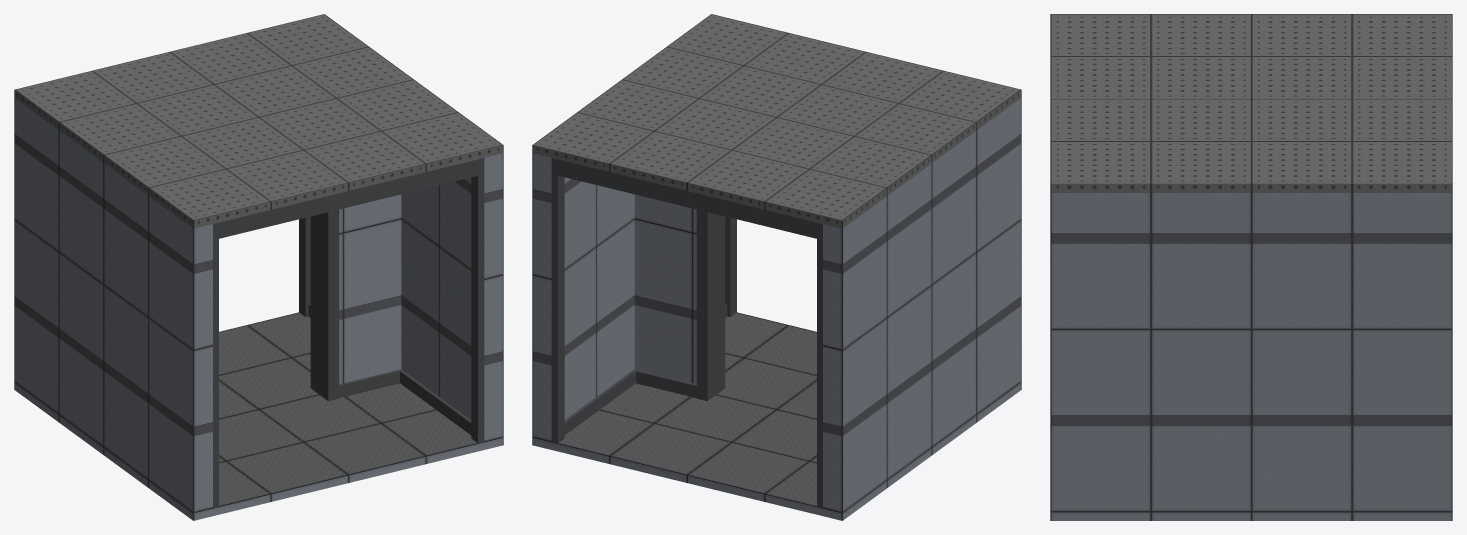
The model's file is Corridor_SciFi_Door.glb.
3 views of the same model, side by side, from view 1: azimuth 30°, elevation 25°; view 2: azimuth 150°, elevation 25°; view 3: azimuth 270°, elevation 25° (orthographic). The views are drawn at different scales.
Visible parts, largest first — view 1: Corridor_SciFi_Door, Corridor_SciFi_Door_Ceiling; view 2: Corridor_SciFi_Door, Corridor_SciFi_Door_Ceiling; view 3: Corridor_SciFi_Door, Corridor_SciFi_Door_Ceiling.
Part boxes in pixels (x1=…): Corridor_SciFi_Door: x1=14, y1=98, x2=503, y2=520; Corridor_SciFi_Door_Ceiling: x1=14, y1=14, x2=503, y2=238; Corridor_SciFi_Door: x1=532, y1=98, x2=1021, y2=520; Corridor_SciFi_Door_Ceiling: x1=532, y1=14, x2=1021, y2=238; Corridor_SciFi_Door: x1=1050, y1=193, x2=1452, y2=520; Corridor_SciFi_Door_Ceiling: x1=1050, y1=14, x2=1452, y2=192.
Bounding box in the file's own units: 4 × 3.7 × 4.
6 materials, 3 textured.
